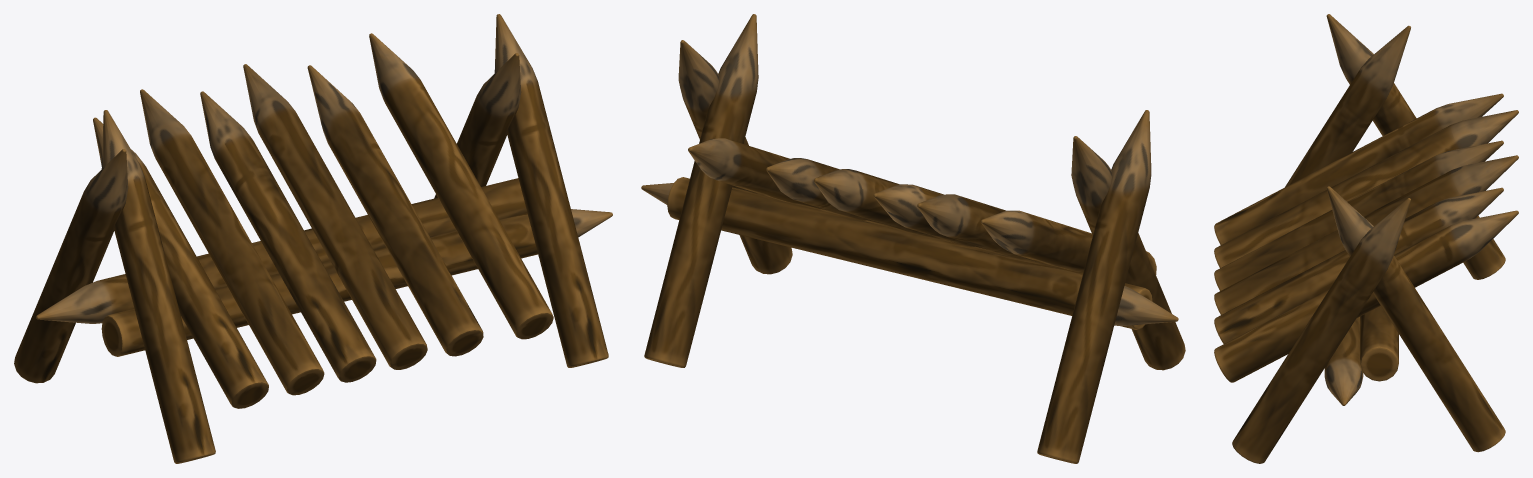
File: Palisade_a01.fbx
The picture shows the model from 3 angles, left to right: view 1: azimuth 30°, elevation 25°; view 2: azimuth 150°, elevation 25°; view 3: azimuth 270°, elevation 25°; orthographic projection. The views are drawn at different scales.
Parts seen in each view (by area): view 1: Palisade_a01; view 2: Palisade_a01; view 3: Palisade_a01.
Boxes of the visible parts, <box> form: Palisade_a01: <box>14,14,612,463</box>; Palisade_a01: <box>641,14,1185,463</box>; Palisade_a01: <box>1214,14,1518,463</box>.
Size of the model in its own units: 4.1 by 2.06 by 2.17.
